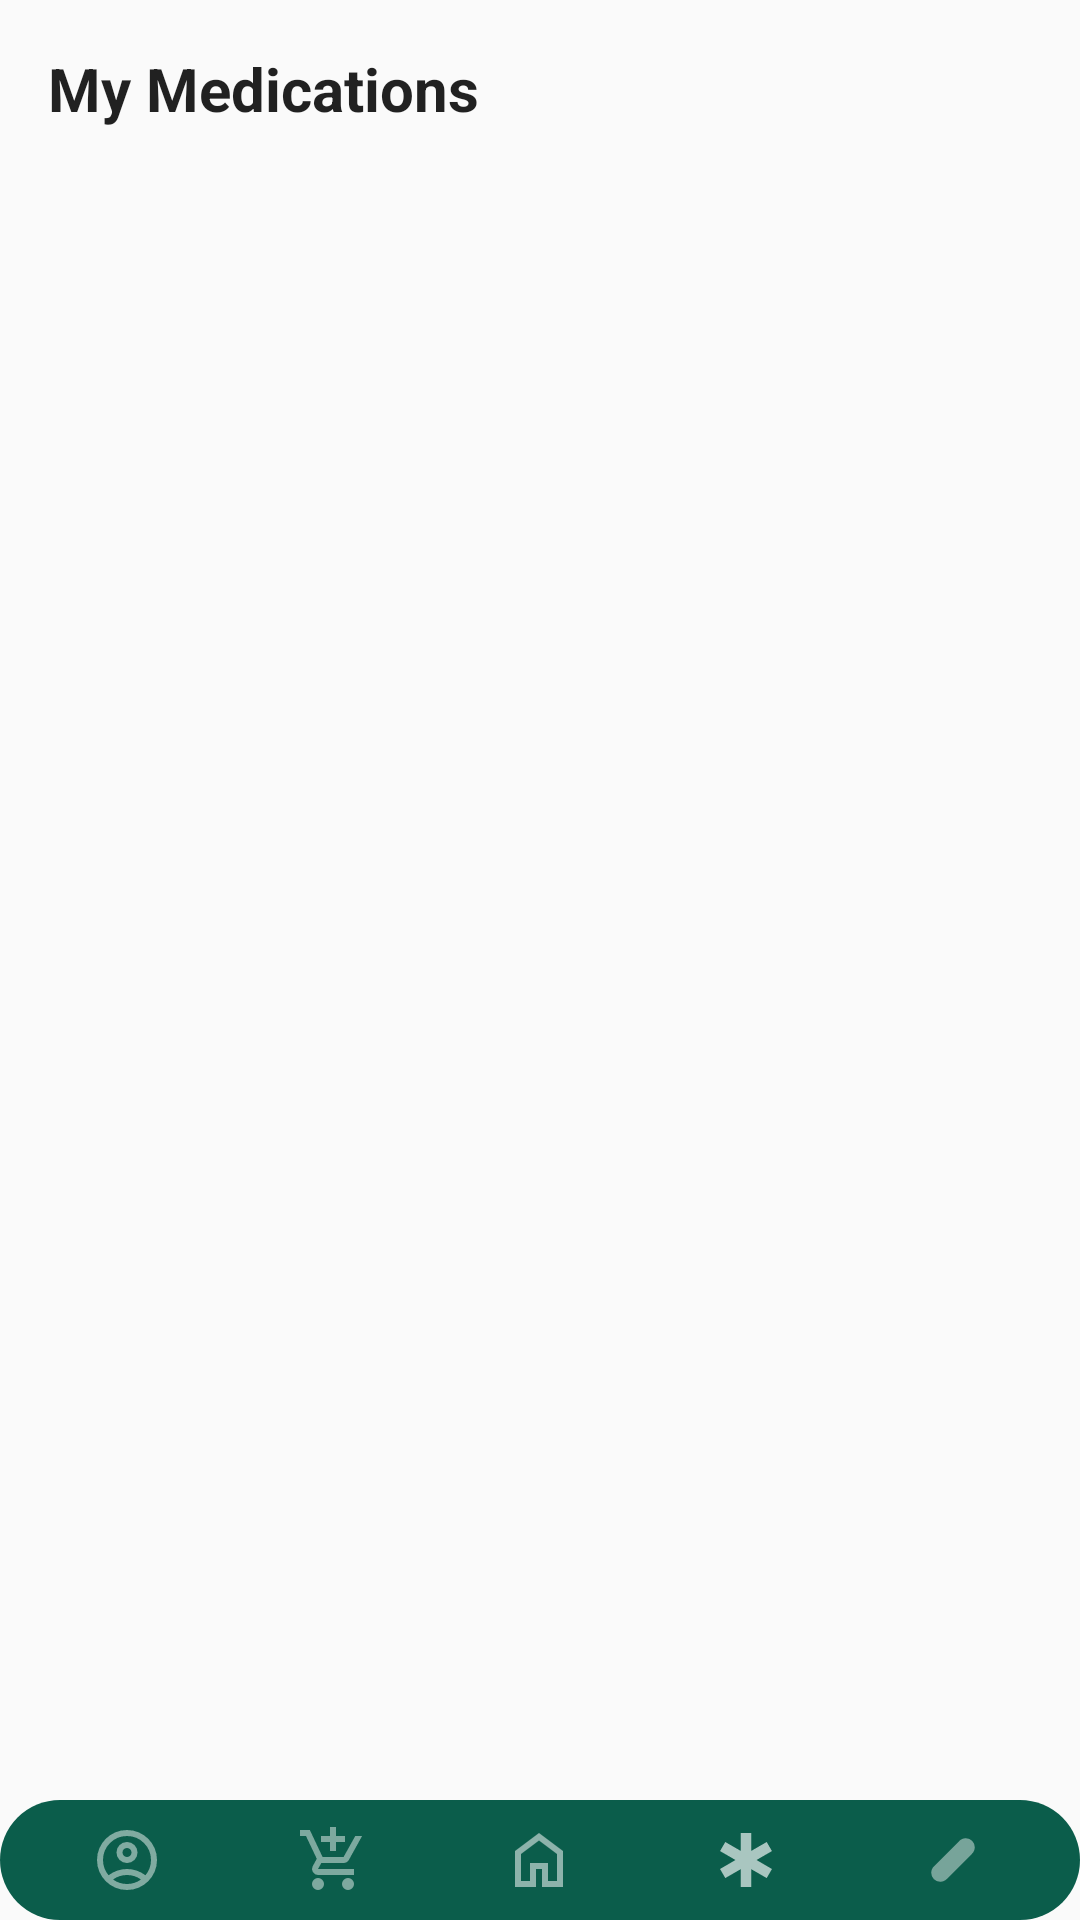

Where icons sit on this 1080×1920 app screen, as box(x1, y1, x2, y2):
account circle: box(97, 1830, 157, 1890)
Emergency: box(720, 1833, 772, 1887)
home: box(515, 1833, 563, 1887)
Medication: box(931, 1838, 975, 1882)
